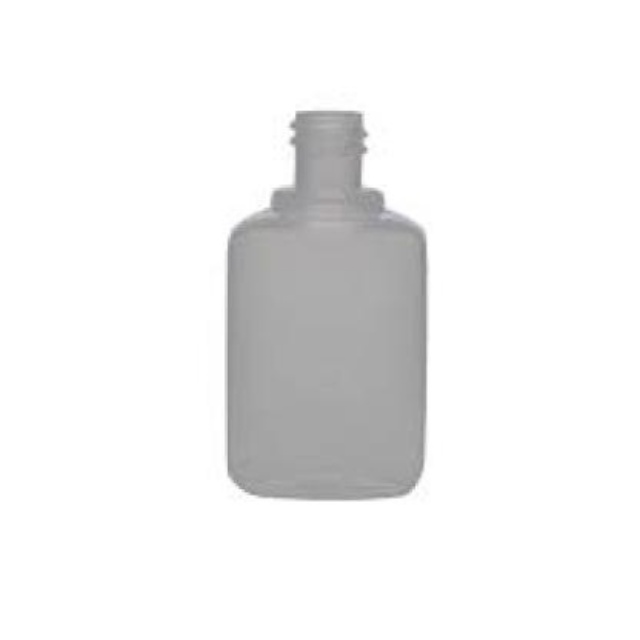trash: (228, 111, 425, 497)
